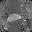people: (7, 14, 22, 22)
